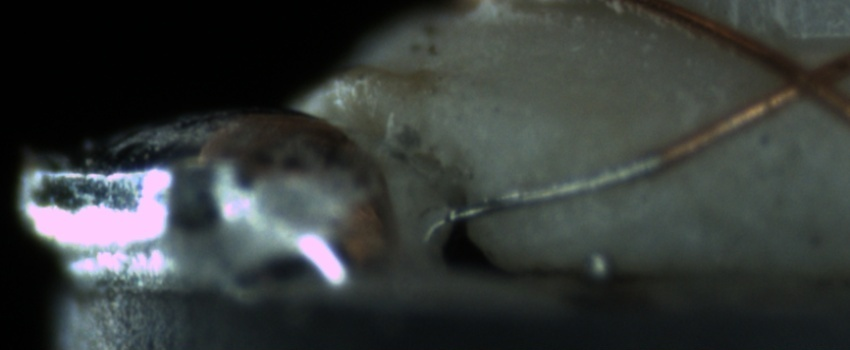CL: (752, 37, 843, 116)
TS: (444, 152, 658, 227)
TTCW: (444, 127, 709, 226)
